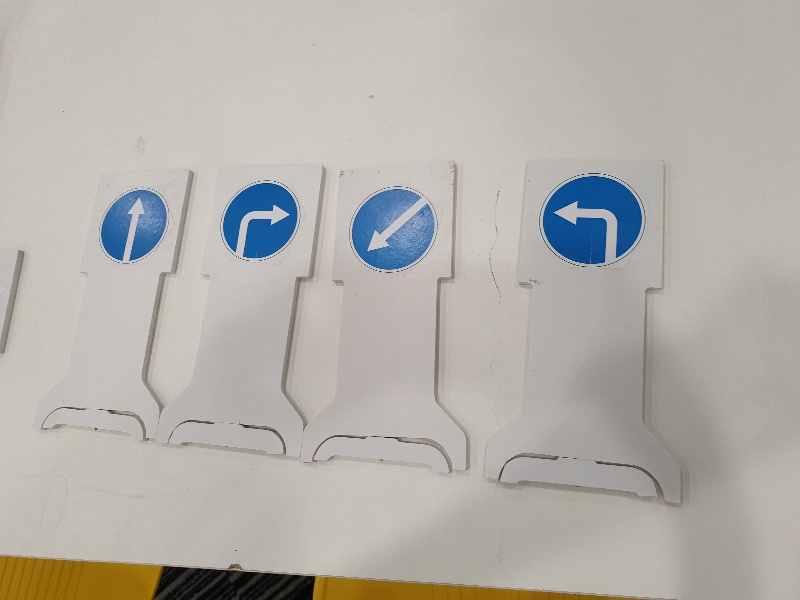Left: (532, 167, 651, 273)
Right: (217, 176, 303, 265)
forw: (93, 182, 173, 264)
prep: (341, 178, 441, 275)
